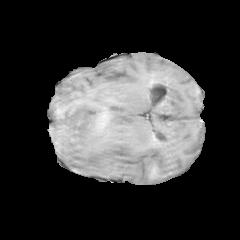glioma: (54, 106, 133, 173)
